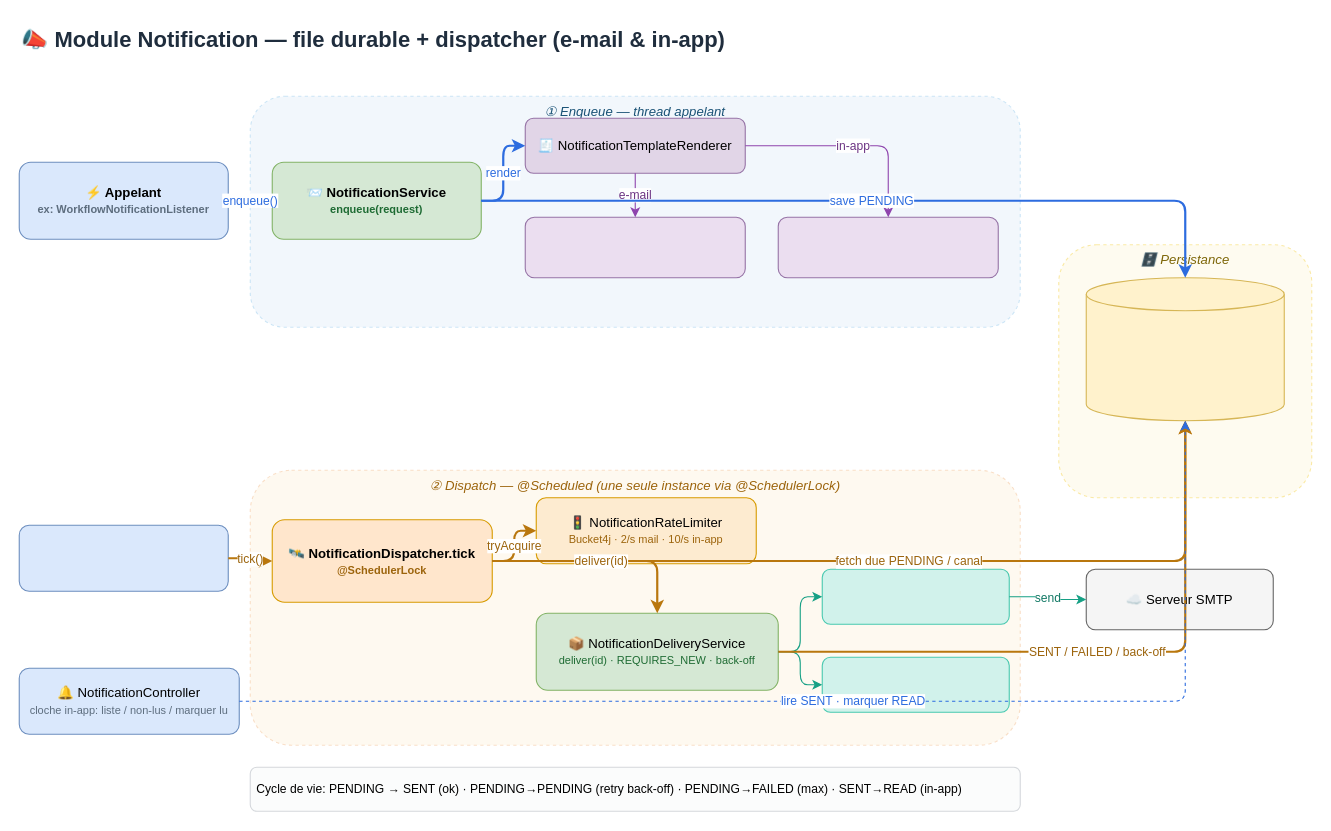
Some shapes in this 1331 by 831 pixel diagram are drawn without their labels. Here are the shapes that lost their labels. From the top down, the centre of each, then its label:
the point at 634,247: 🖋️ notificationHtmlEngine Thymeleaf HTML (e-mail)
the point at 887,247: 📝 notificationTextEngine Thymeleaf texte (in-app)
the point at 1184,349: 🗄️ notification + notification_audit (Envers)
the point at 123,557: ⏱️ Spring Scheduler fixed-delay
the point at 915,596: 📧 MailChannelSender
the point at 915,684: 🔔 ApplicationChannelSender
